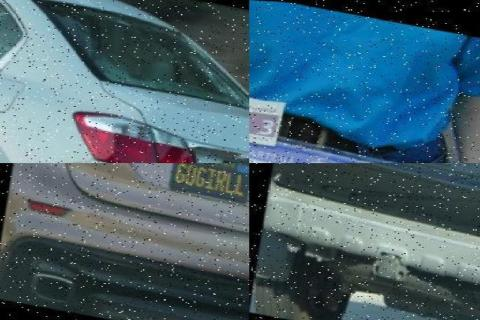LicensePlate: (160, 163, 250, 204), (377, 163, 459, 191)
